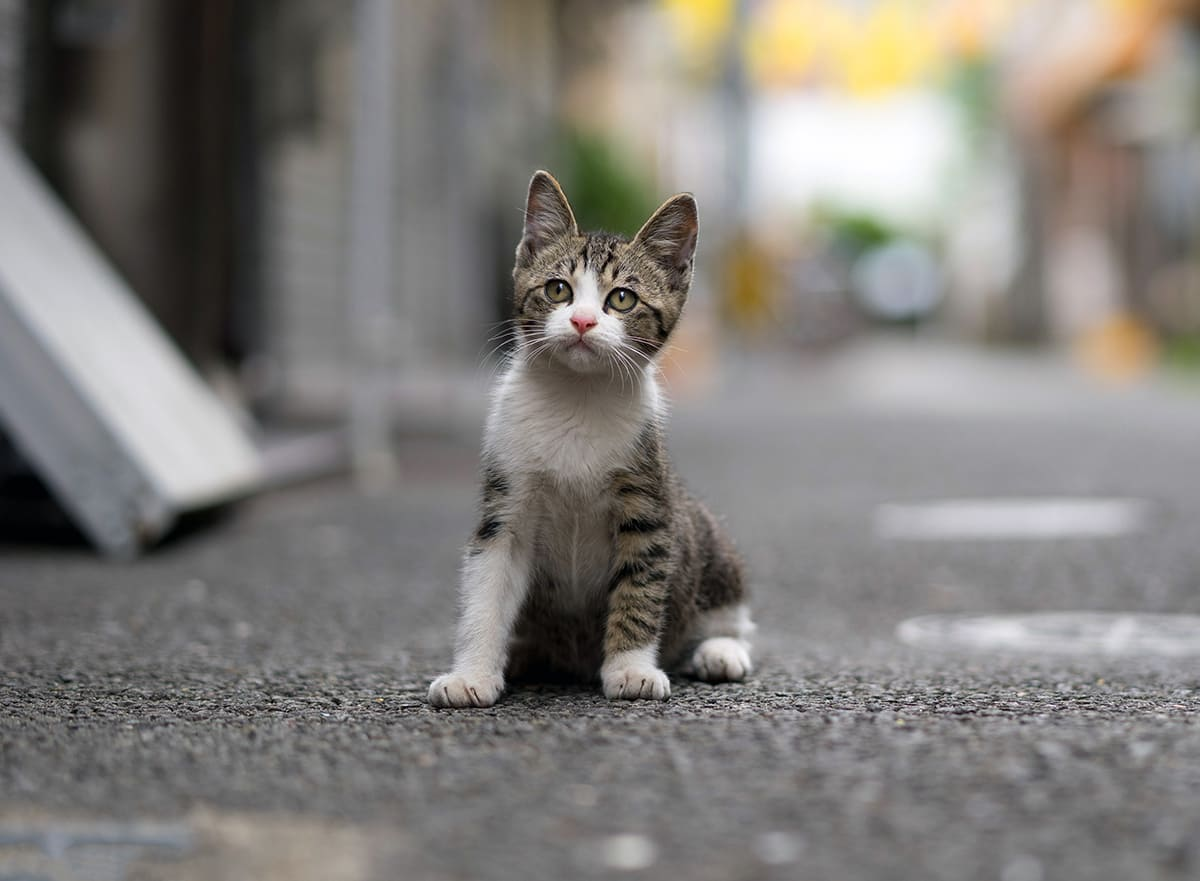cat: (436, 171, 763, 706)
